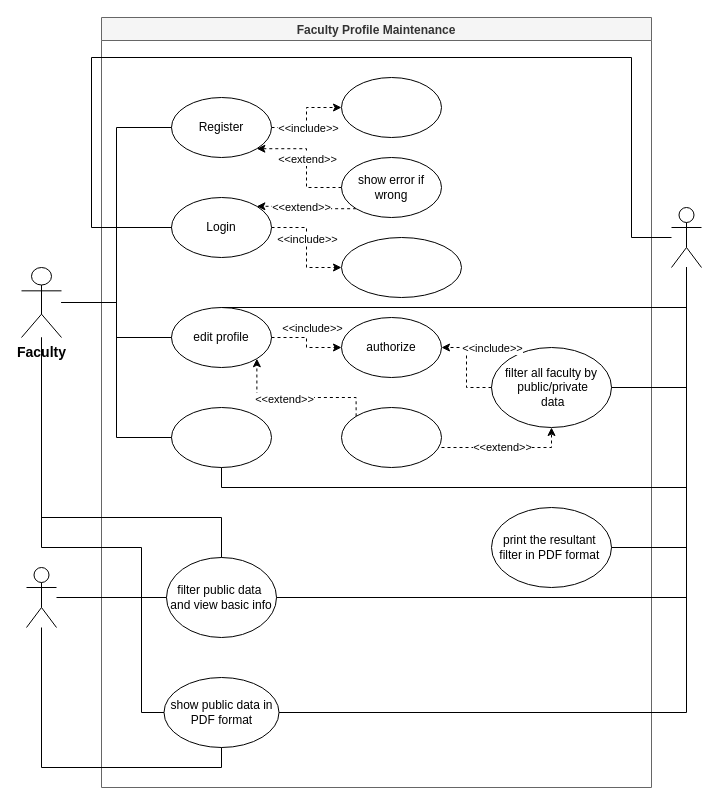
Image size: 726x805. Some labels were removed from this diagram. Each missing label, with the centre of its shape:
"Admin" belongs at point 686,237.
"show error if unauthorized" belongs at point 391,437.
"Users" belongs at point 41,597.
"validate username/email" belongs at point 391,107.
"verify username/password" belongs at point 401,267.
"view profile" belongs at point 221,437.
